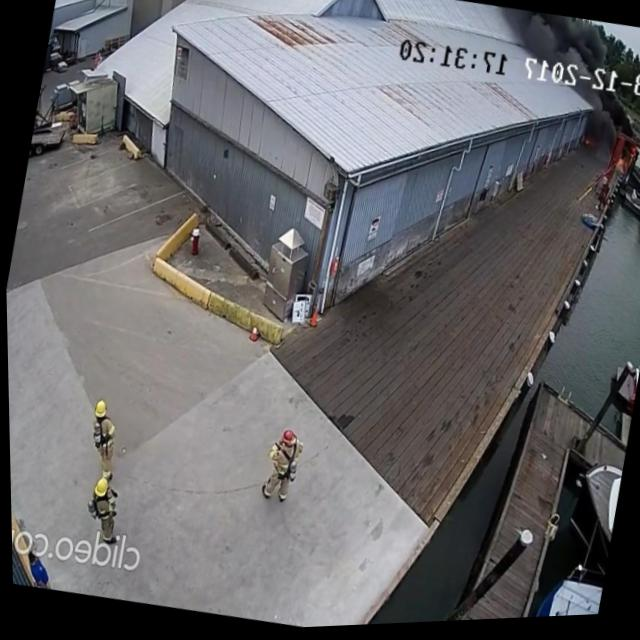fire: (614, 147, 638, 181), (581, 141, 592, 153)
